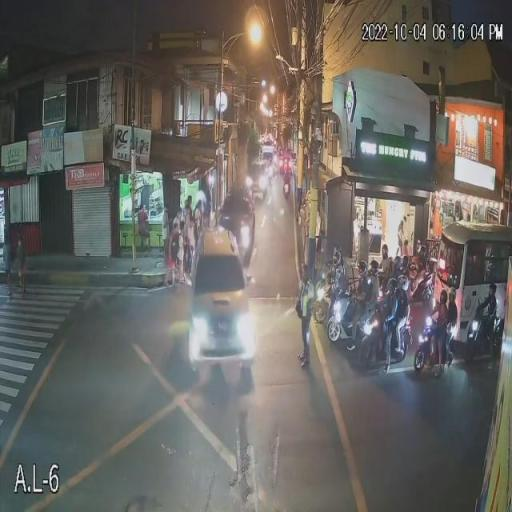helmet: (355, 260, 368, 282), (330, 248, 342, 265), (446, 286, 458, 302), (386, 276, 399, 290), (366, 260, 378, 271), (418, 247, 431, 257), (381, 244, 389, 260), (437, 287, 447, 299), (409, 256, 418, 266), (488, 284, 496, 294)
motorcycle: (353, 302, 404, 372), (326, 284, 372, 345), (410, 314, 446, 376), (398, 276, 432, 330), (465, 310, 497, 364), (315, 268, 347, 320)
rider: (468, 283, 498, 351), (377, 275, 400, 359), (428, 287, 452, 363), (391, 274, 411, 363), (444, 290, 461, 372), (350, 260, 368, 328), (326, 248, 350, 297), (364, 261, 381, 329), (410, 248, 432, 299), (375, 244, 393, 287)
